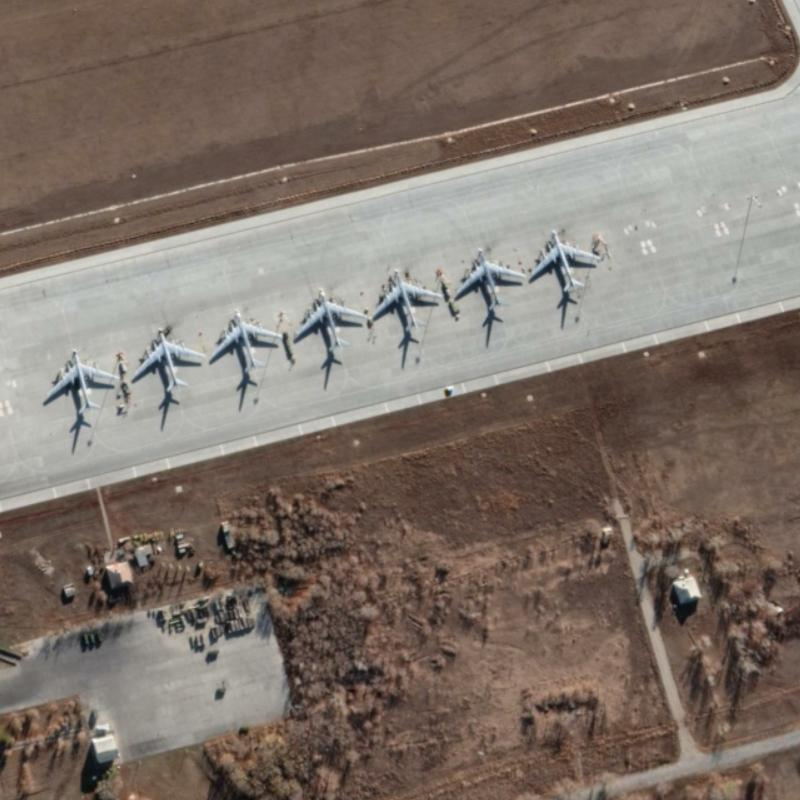A17: (41, 346, 120, 415), (294, 285, 369, 354), (131, 325, 206, 392), (369, 266, 444, 333), (208, 307, 284, 373), (529, 227, 601, 293), (453, 246, 526, 311)
